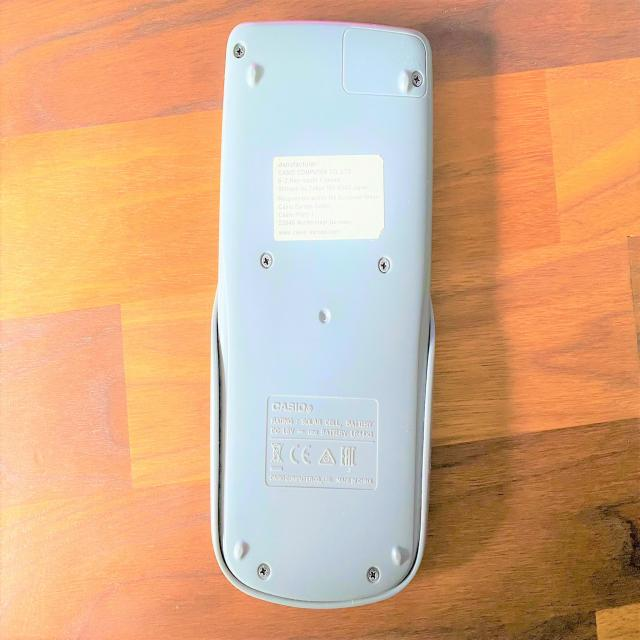PhillipsScrewHead: (232, 43, 247, 59), (260, 252, 273, 269), (367, 566, 380, 583), (411, 71, 424, 87), (258, 563, 270, 579), (379, 259, 390, 273)
